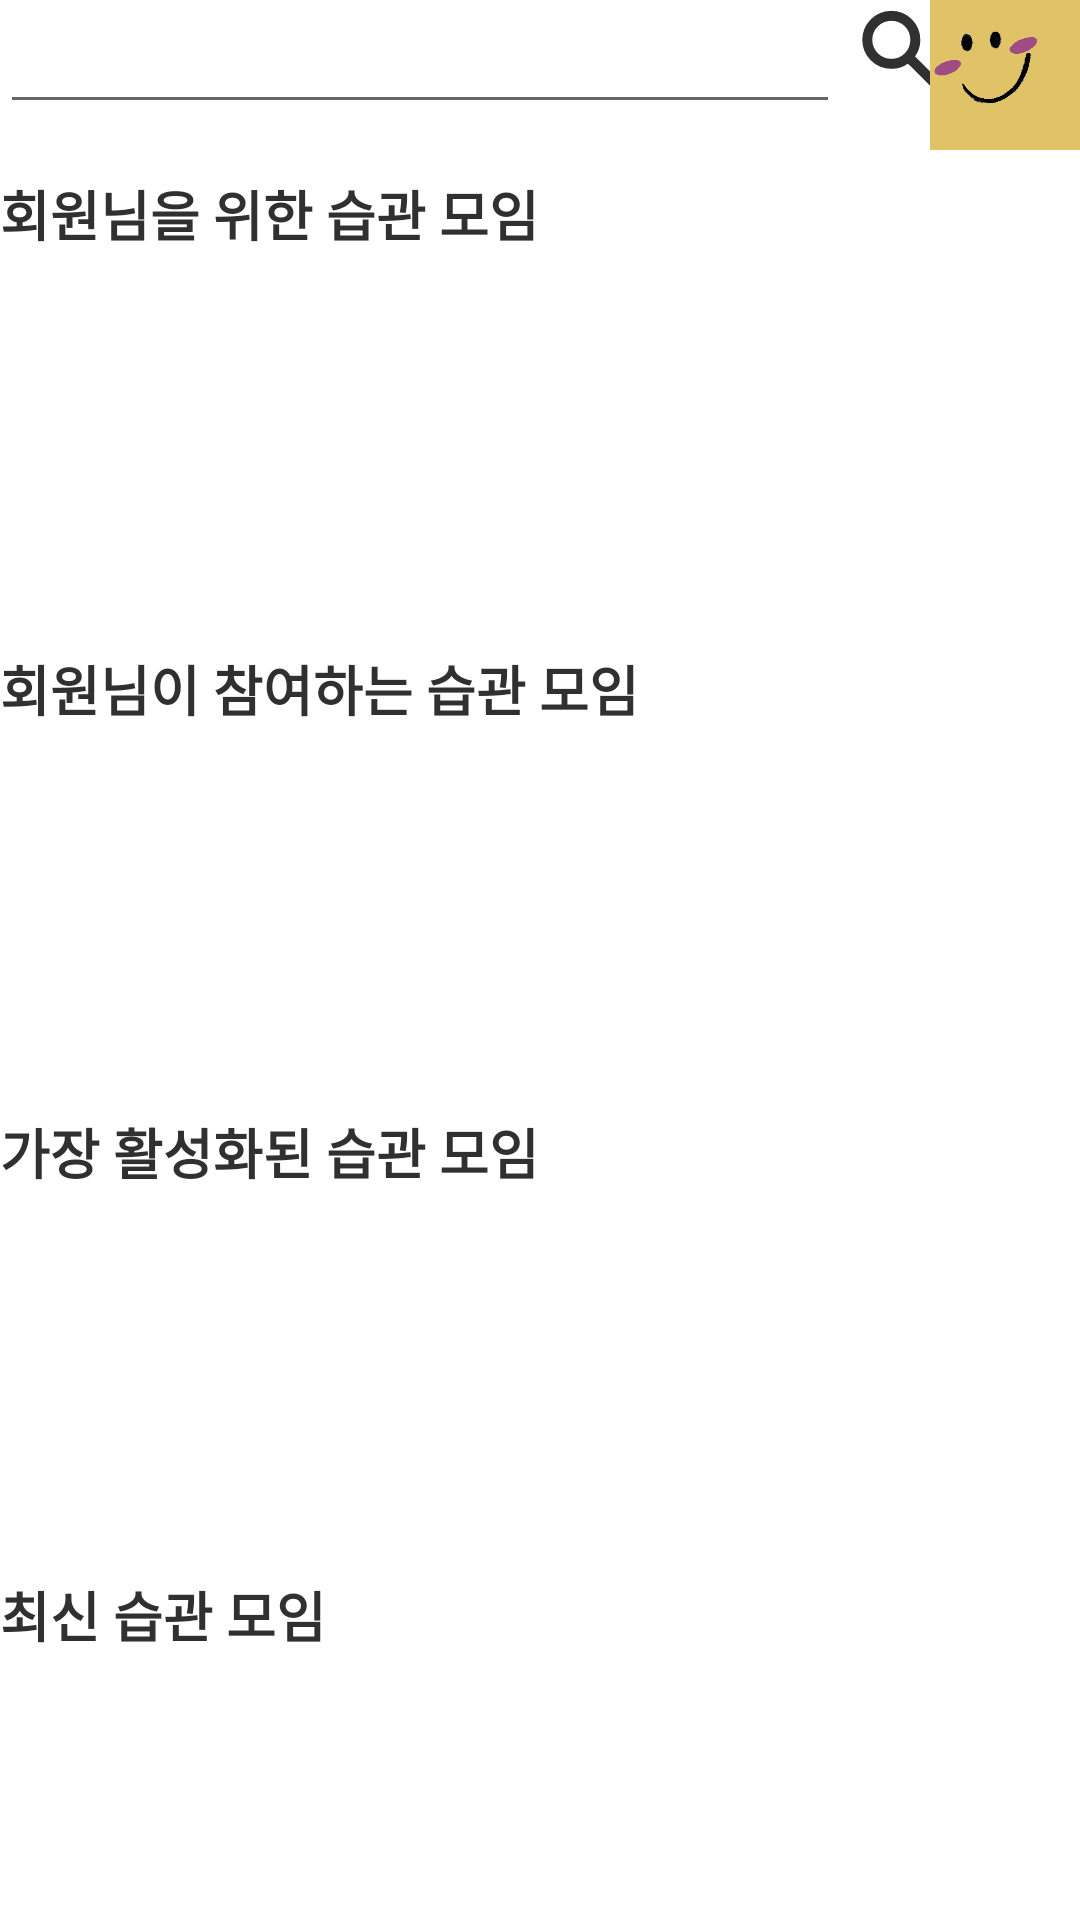

Screen size 1080*1920. Icon name, then its box in pixels as (x1, y1, x2, y2):
blush: (930, 0, 1080, 150)
